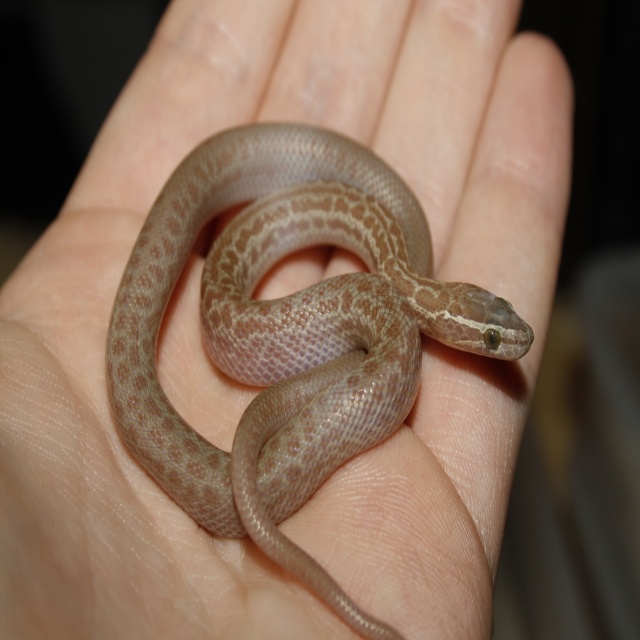Snake: (106, 118, 533, 639)
